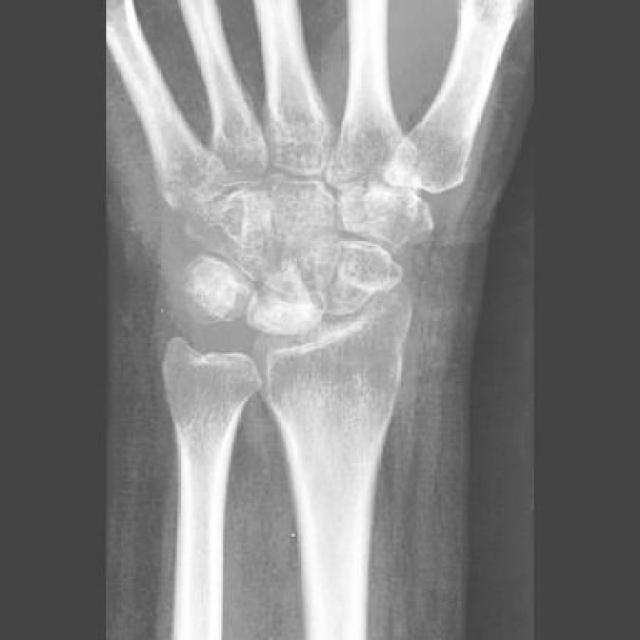bone: (253, 279, 302, 322)
